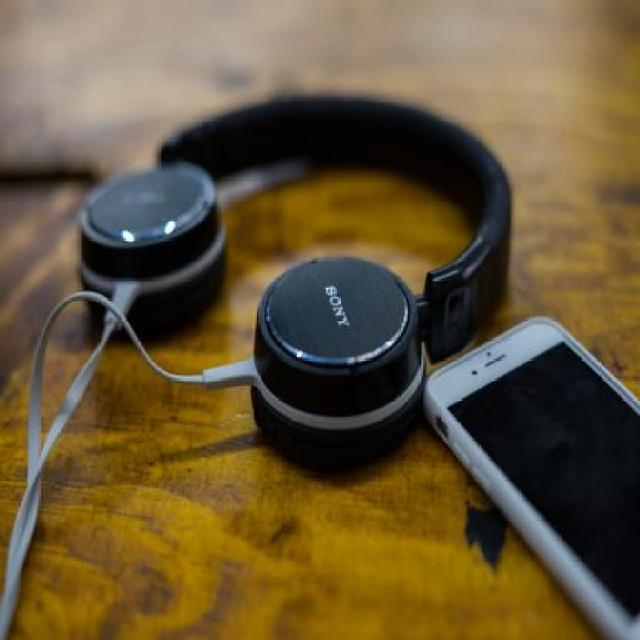earphone: (95, 68, 523, 422)
smart phone: (447, 312, 640, 639)
